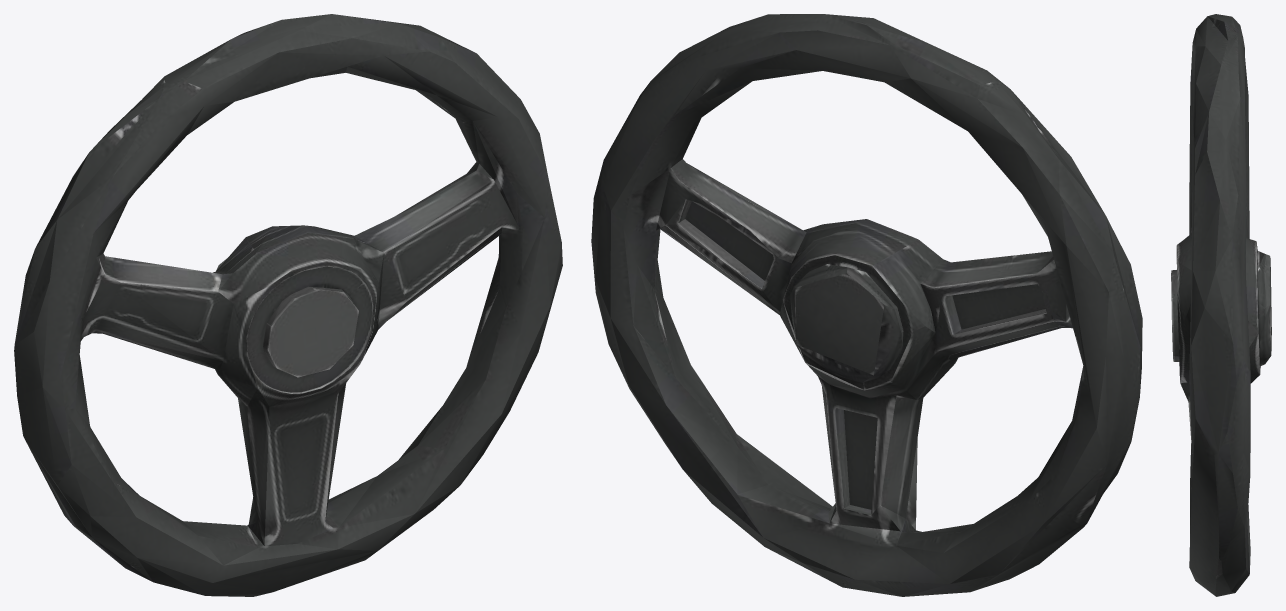
File: shared_flight_deck_ordnance_tractor__steering_wheel_lod1.glb
3 renders of one model, left to right at view 1: azimuth 30°, elevation 25°; view 2: azimuth 150°, elevation 25°; view 3: azimuth 270°, elevation 25°, orthographic. The views are drawn at different scales.
Parts seen in each view (by area): view 1: mesh_node; view 2: mesh_node; view 3: mesh_node.
Boxes of the visible parts, <box> form: mesh_node: <box>14,14,562,596</box>; mesh_node: <box>591,14,1142,596</box>; mesh_node: <box>1171,14,1271,596</box>.
Size of the model in its own units: 0.4412 by 0.4361 by 0.0754.
Materials: 1 (1 with a texture image).
